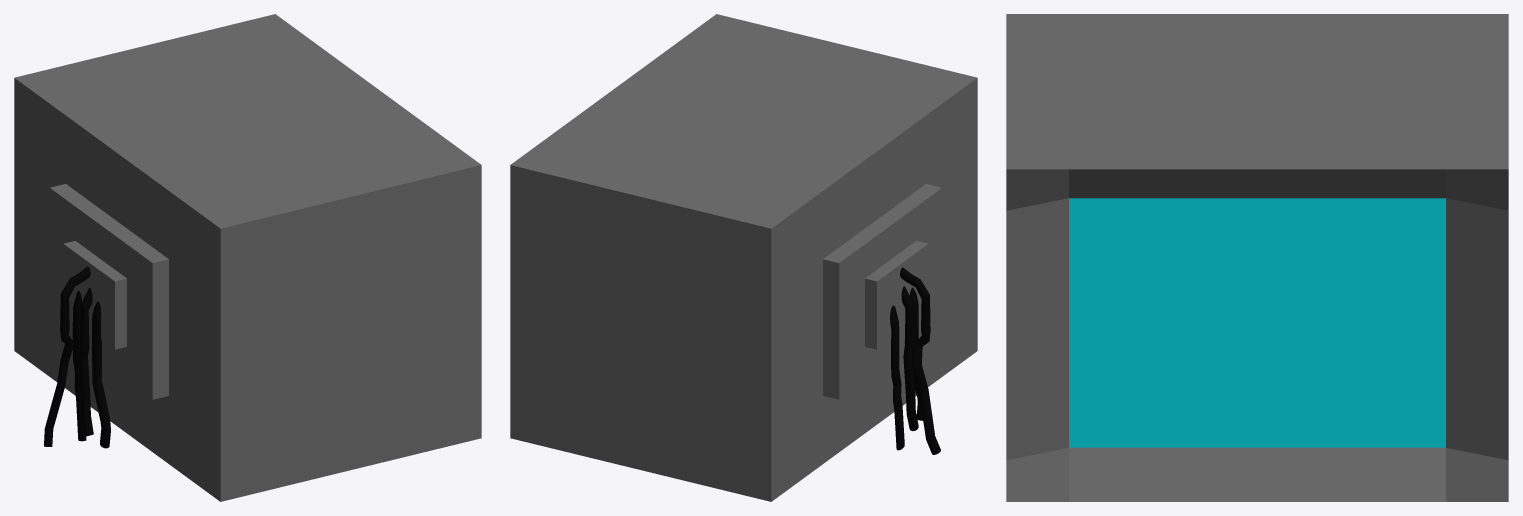
File: CWComputerModel.fbx
3 renders of one model, left to right at view 1: azimuth 30°, elevation 25°; view 2: azimuth 150°, elevation 25°; view 3: azimuth 270°, elevation 25°, orthographic. The views are drawn at different scales.
Visible parts, largest first — view 1: Cube, Cylinder.003, Cylinder.001, Cylinder.002, Cylinder; view 2: Cube, Cylinder.003, Cylinder.002, Cylinder; view 3: Cube.
Boxes of the visible parts, x1,y1,x2,y2 form: Cube: [14, 14, 481, 501]; Cylinder.003: [44, 266, 90, 446]; Cylinder.001: [92, 301, 110, 448]; Cylinder.002: [78, 287, 93, 436]; Cylinder: [72, 291, 86, 441]; Cube: [510, 14, 977, 501]; Cylinder.003: [900, 267, 940, 454]; Cylinder.002: [901, 286, 918, 430]; Cylinder: [890, 305, 904, 450]; Cube: [1006, 14, 1508, 501].
Bounding box in the file's own units: 253 × 208 × 274.
